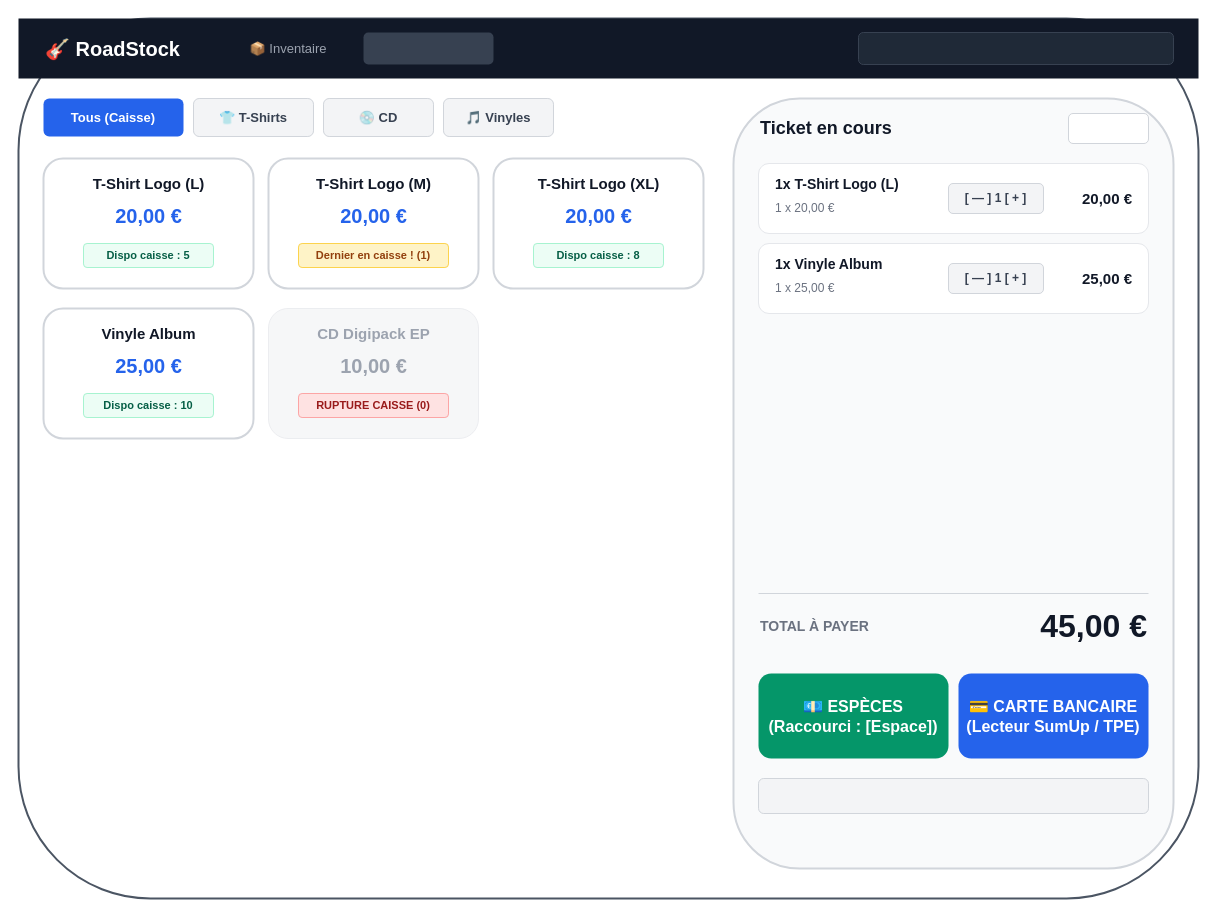
Image size: 1216x916. Some labels were removed from this diagram. Here are the shapes that lost their labels. From the top down, the centre of each, then its label:
[428,48]: ⚡ Caisse Concert
[1016,48]: 🔴 Concert en cours : Le Bikini (Toulouse)
[1108,128]: Vider [✕]
[953,796]: Calcul rendu monnaie : [ Reçu : 50,00 € ➔ Rendre : 5,00 € ]
